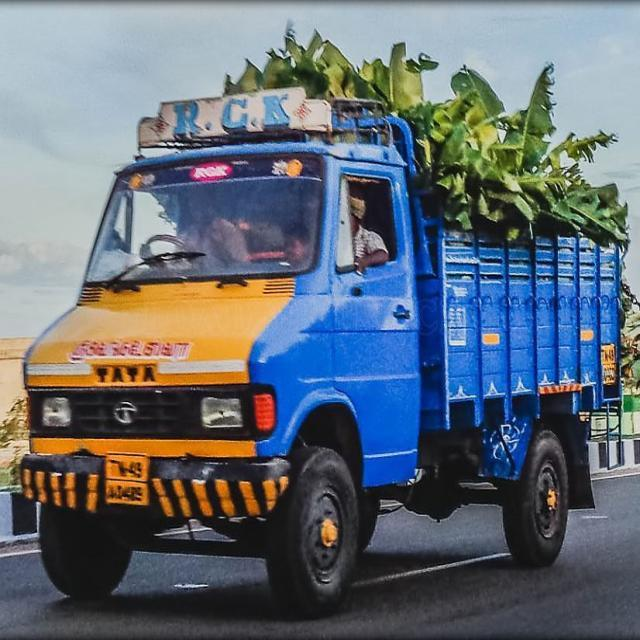Truck: (19, 89, 626, 616)
